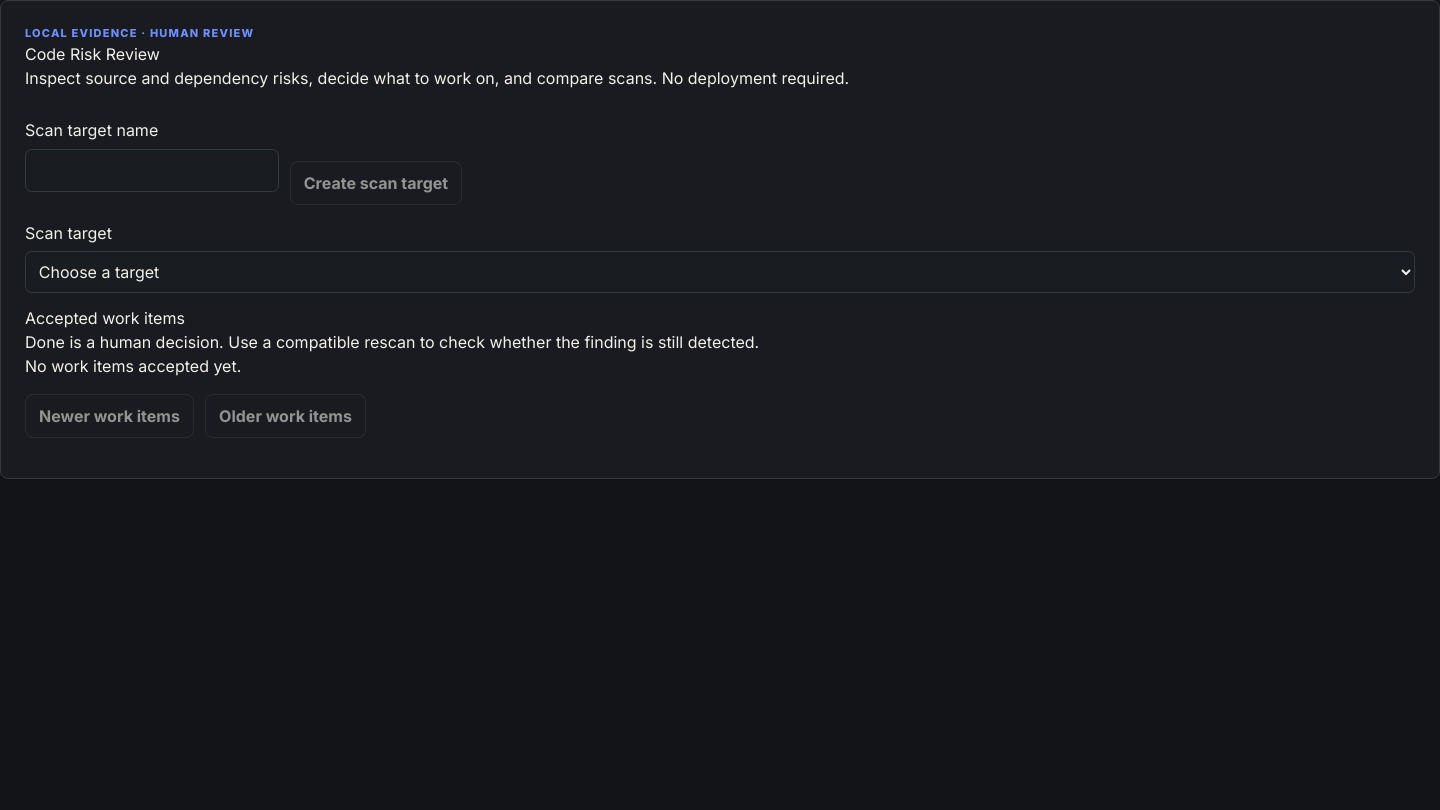
Scenario: owner creates a local target without repository or production setup
The image size is (1440, 810).
Type "Working tree" into the field labelled "Scan target name" at (152, 170), box [25,149,279,192]
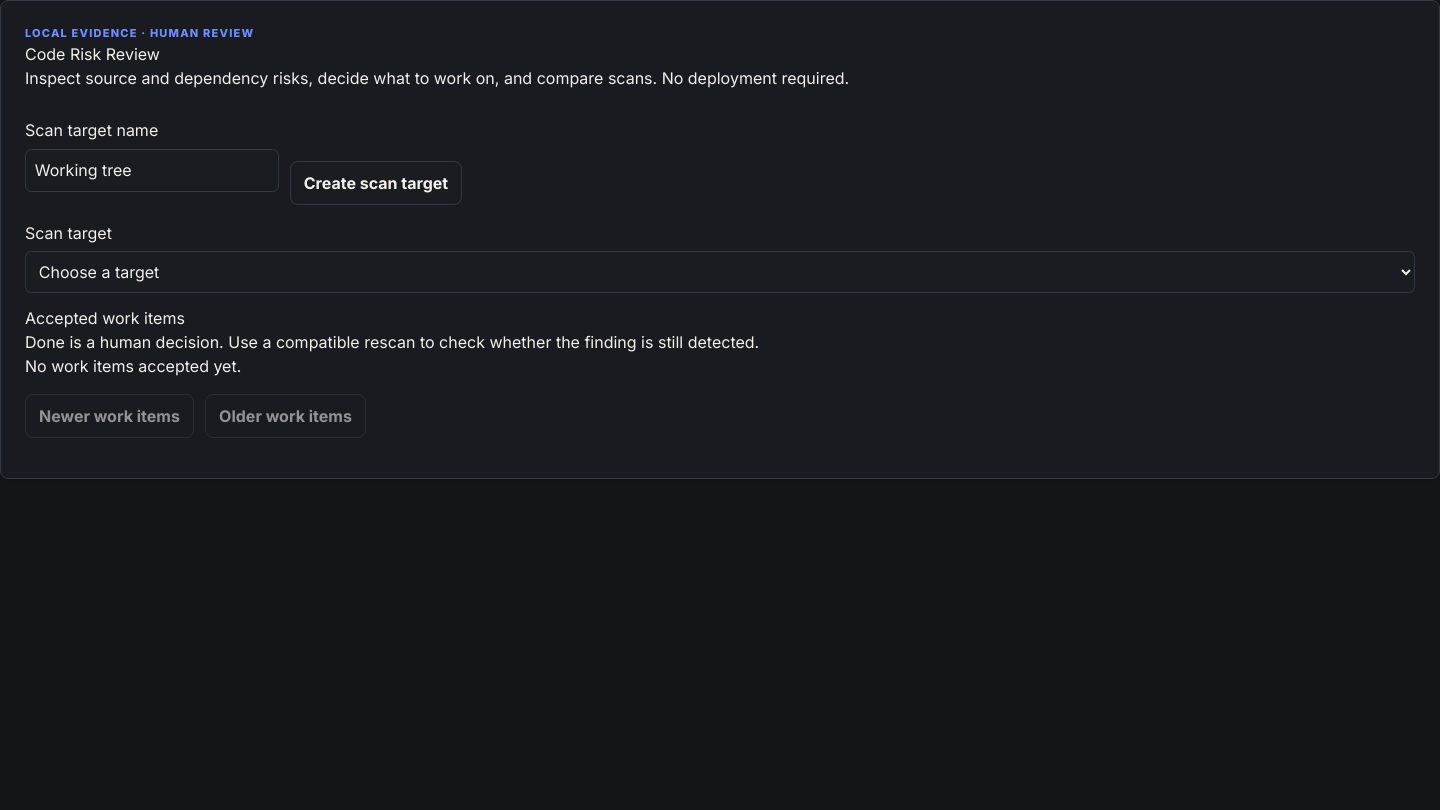
Click the button "Create scan target" at (376, 183), box [290,161,462,205]
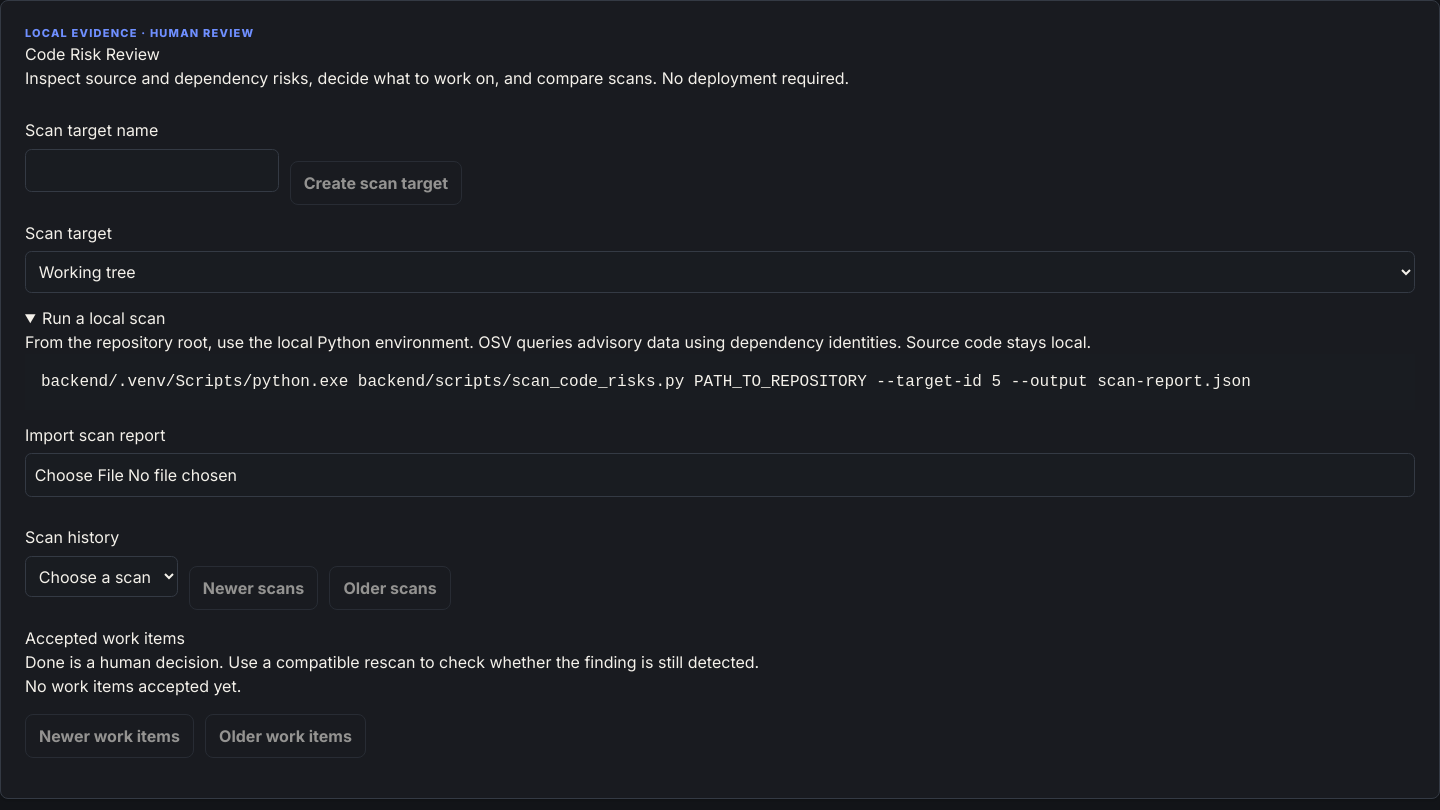
Now the text "--target-id 5" is shown, box [41,373,1251,391]
Now the file field labelled "Import scan report" is shown, box [25,453,1415,497]
